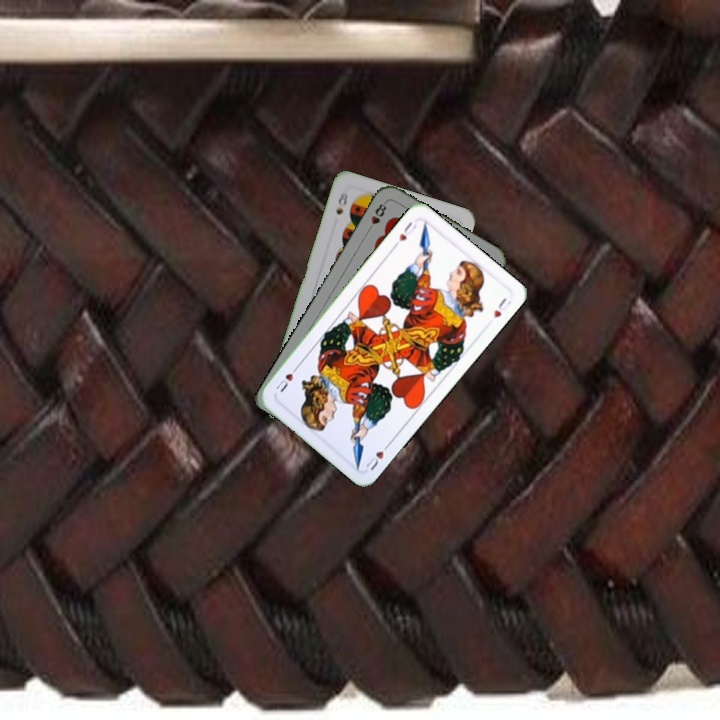H8: (363, 198, 389, 235)
HU: (362, 439, 393, 474), (390, 217, 419, 250)
S8: (332, 188, 350, 217)
